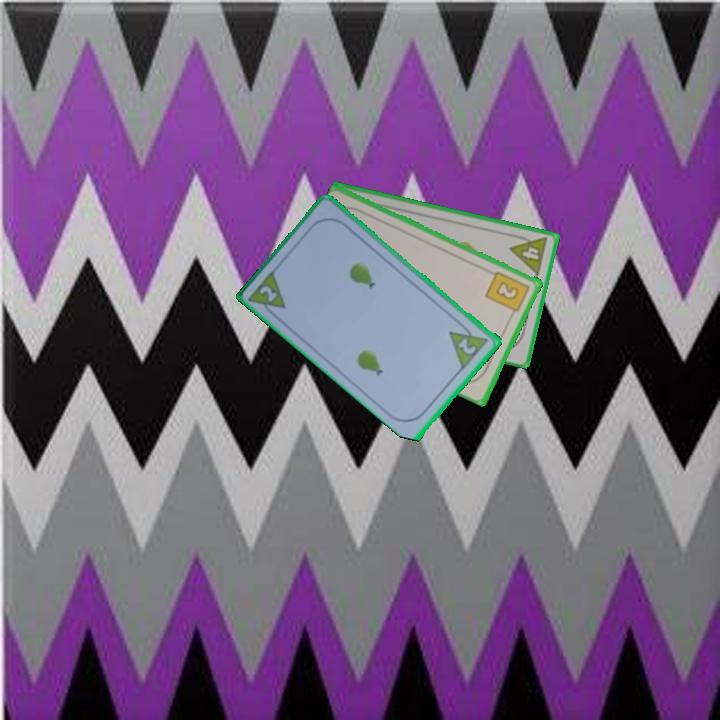2b: (482, 267, 533, 320)
2p: (446, 318, 492, 371), (256, 282, 281, 305)
4p: (506, 230, 551, 278)
